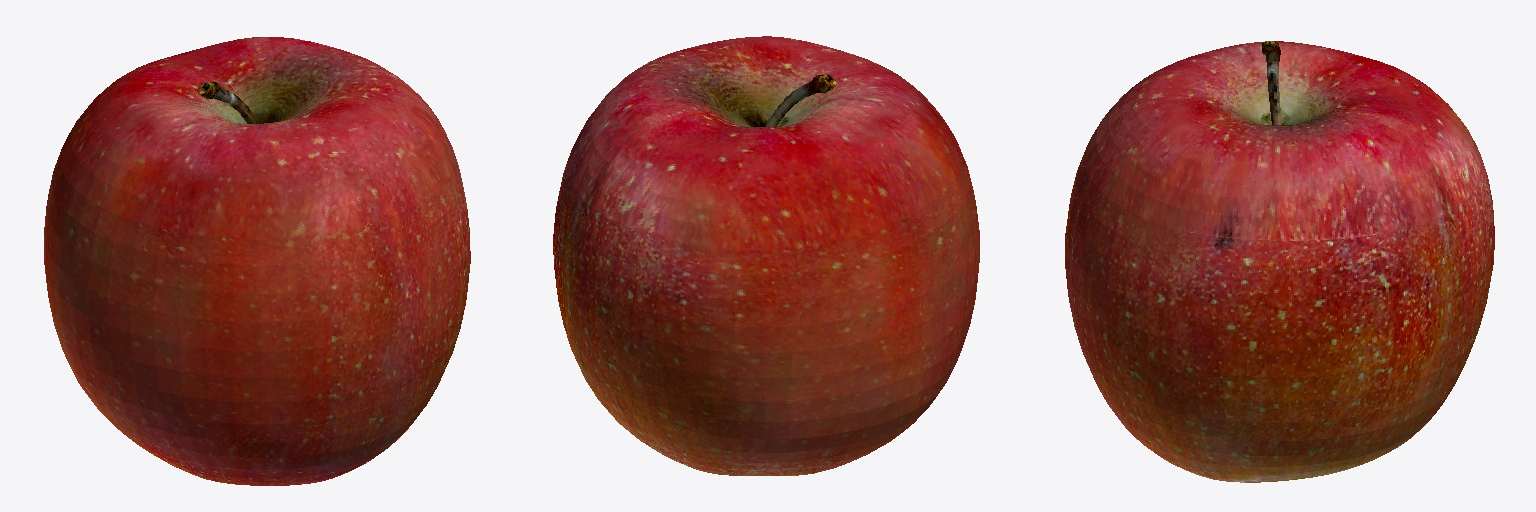
3 renders of one model, left to right at view 1: azimuth 30°, elevation 25°; view 2: azimuth 150°, elevation 25°; view 3: azimuth 270°, elevation 25°, orthographic.
Visible parts, largest first — view 1: Object_APPLE.jpg; view 2: Object_APPLE.jpg; view 3: Object_APPLE.jpg.
Part boxes in pixels (x1,y1,x2,y2): Object_APPLE.jpg: (44,37,470,485); Object_APPLE.jpg: (553,36,979,475); Object_APPLE.jpg: (1065,41,1494,482).
Size of the model in its own units: 2.47 by 2.43 by 2.5.
2 materials, 1 textured.